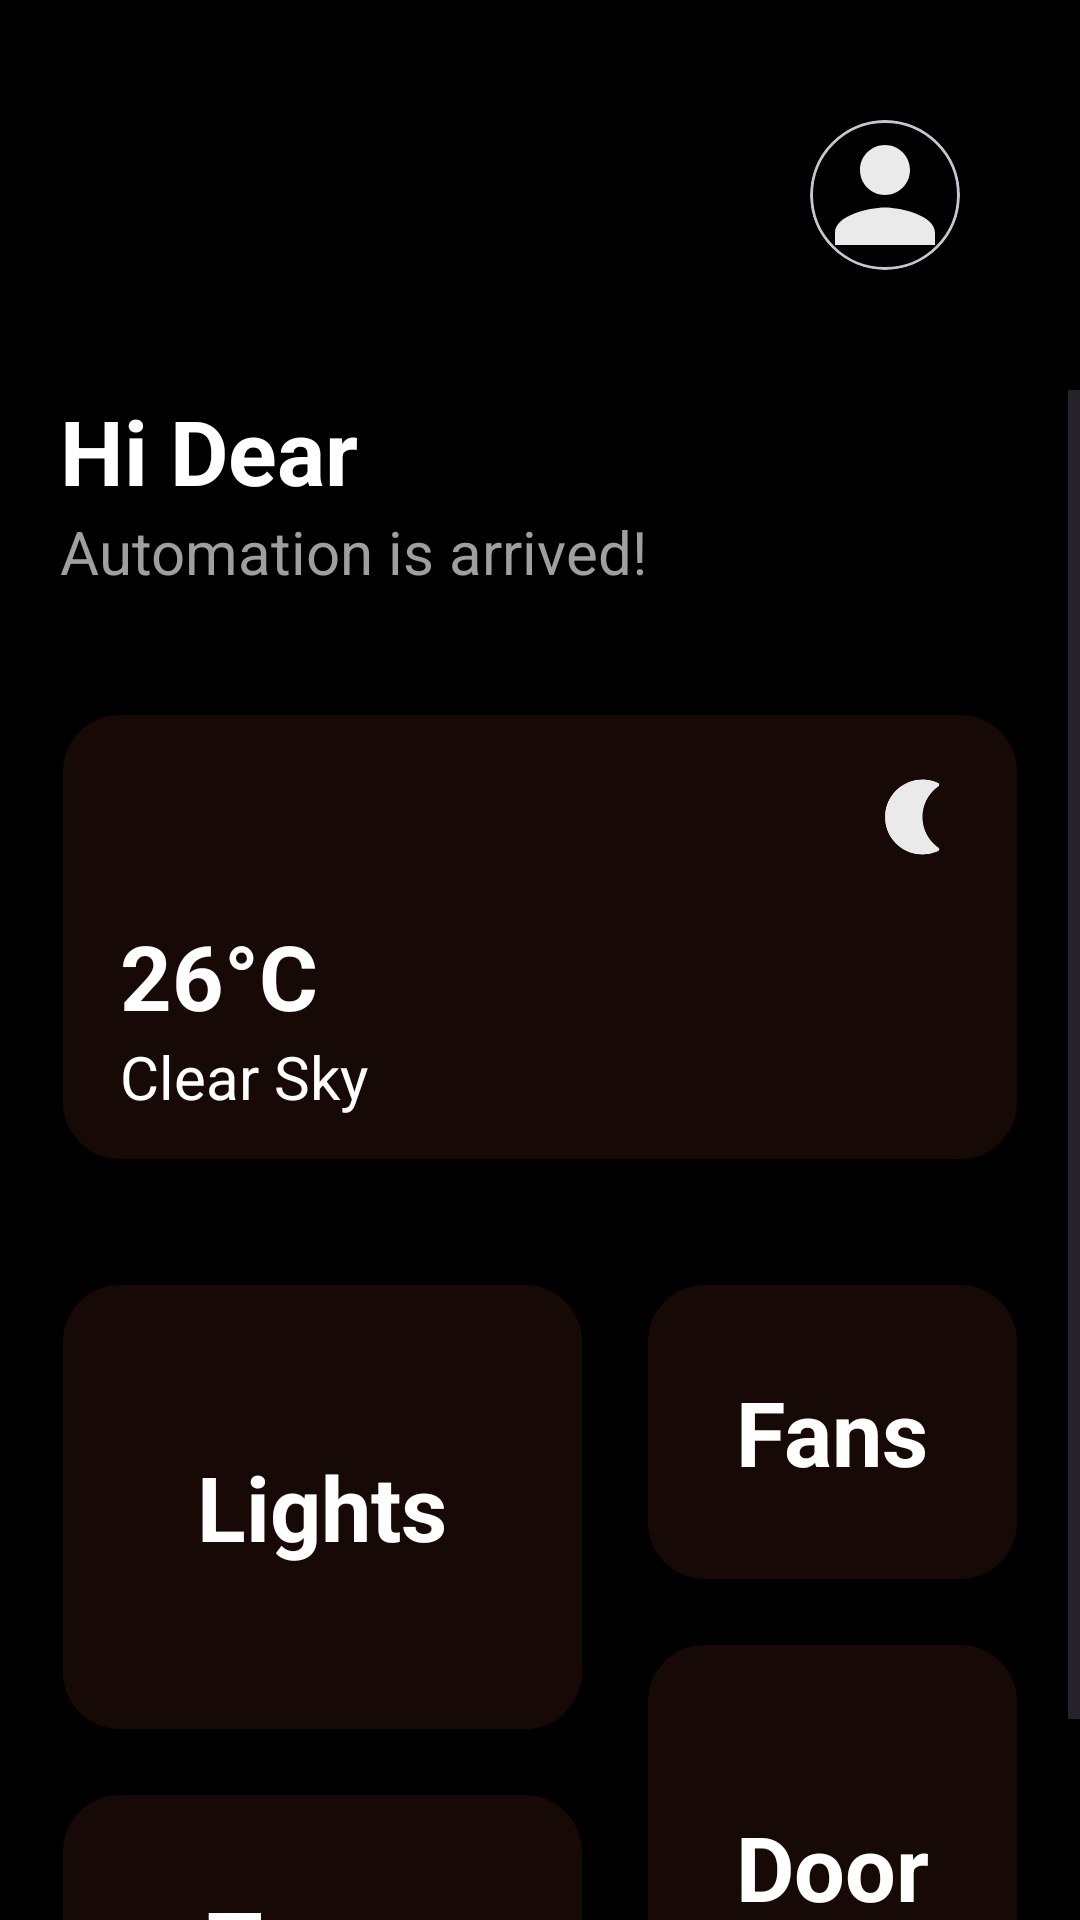

Where icons sit on this 1080×1920 app screen, as (x1, y1, x2, y2):
night: (885, 779, 940, 855)
profile: (810, 120, 960, 270)
